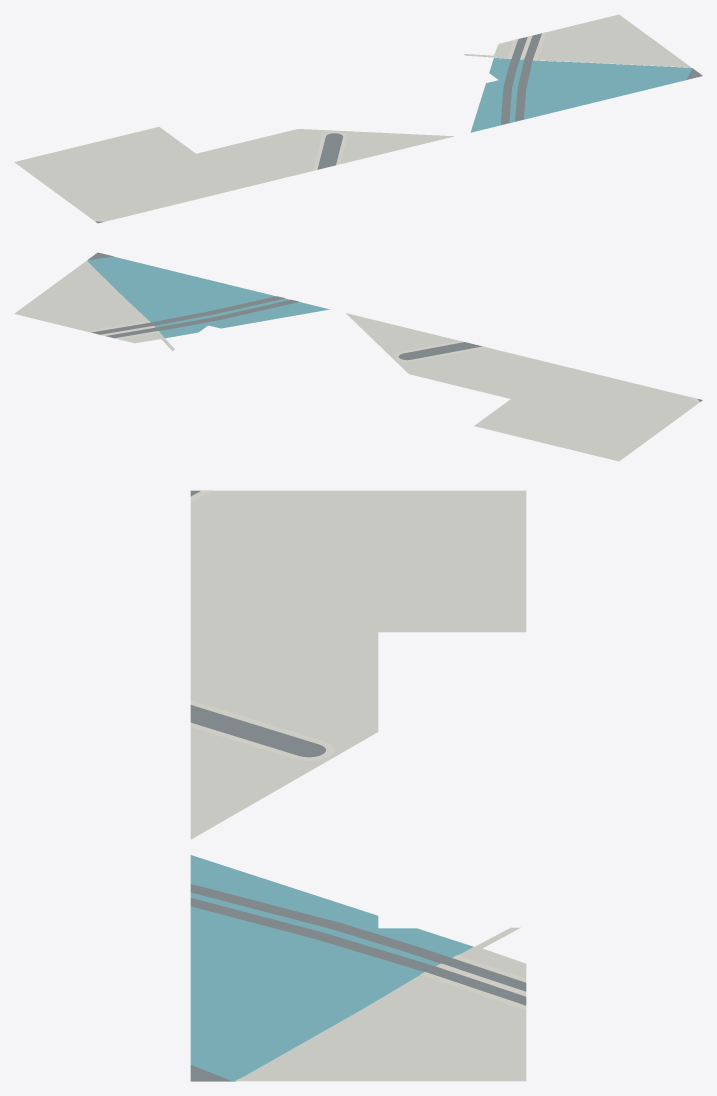
3 views of the same model, one above another, from view 1: azimuth 30°, elevation 25°; view 2: azimuth 150°, elevation 25°; view 3: azimuth 270°, elevation 25° (orthographic). The views are drawn at different scales.
Visible parts, largest first — view 1: city; view 2: city; view 3: city.
Part boxes in pixels (x1=…): city: x1=14, y1=14, x2=702, y2=223; city: x1=14, y1=252, x2=702, y2=461; city: x1=190, y1=490, x2=526, y2=1081.
Size of the model in its own units: 500 by 0.4 by 120.
